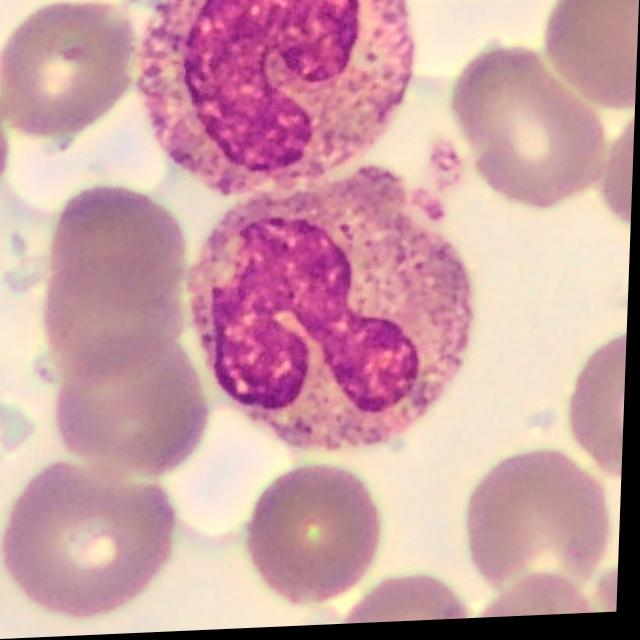Bastonete: (187, 172, 471, 456), (137, 0, 416, 193)
